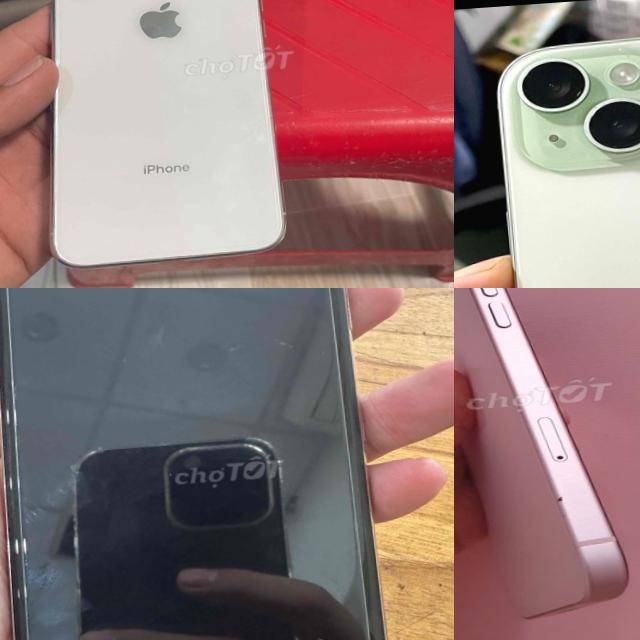gen_15: (454, 288, 640, 623), (461, 12, 640, 288)
gen_x_xs: (0, 288, 384, 640), (23, 0, 293, 277)
scratch: (13, 482, 87, 600), (251, 327, 334, 372), (211, 336, 257, 367), (292, 628, 354, 640)
